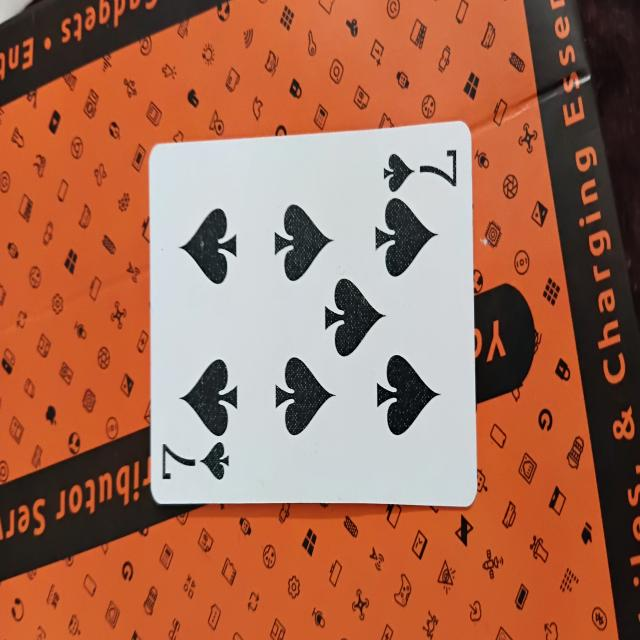7S: (146, 142, 477, 507)
